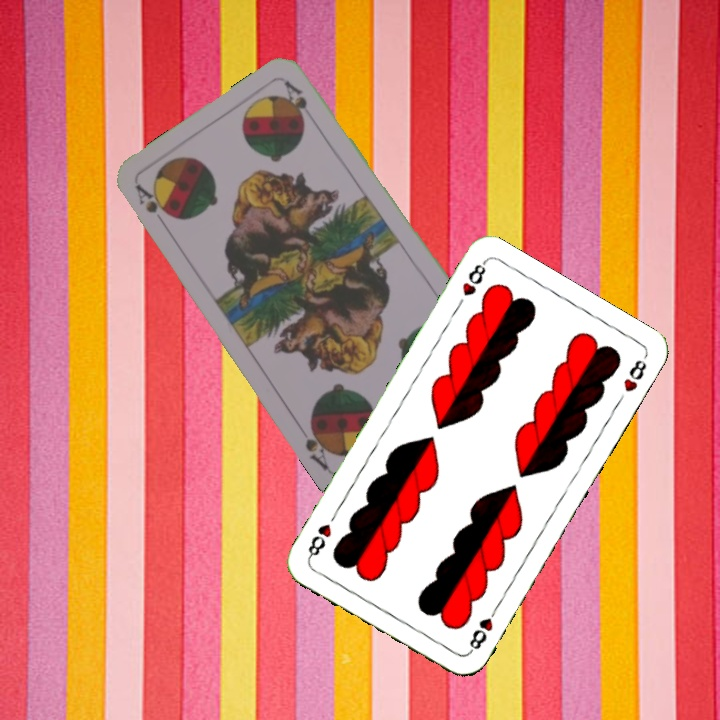H8: (465, 602, 501, 656), (458, 257, 489, 299)
SA: (131, 180, 174, 233)
